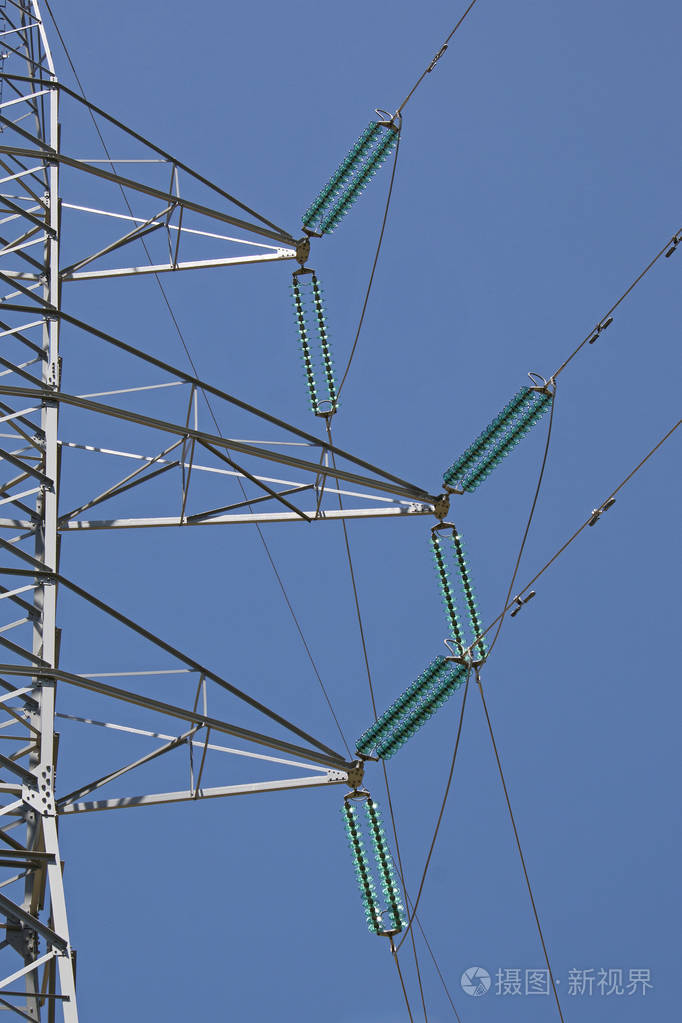insulator: (447, 388, 552, 488), (353, 661, 460, 759), (302, 120, 396, 229), (342, 795, 411, 933), (429, 531, 487, 659), (288, 279, 338, 414)
